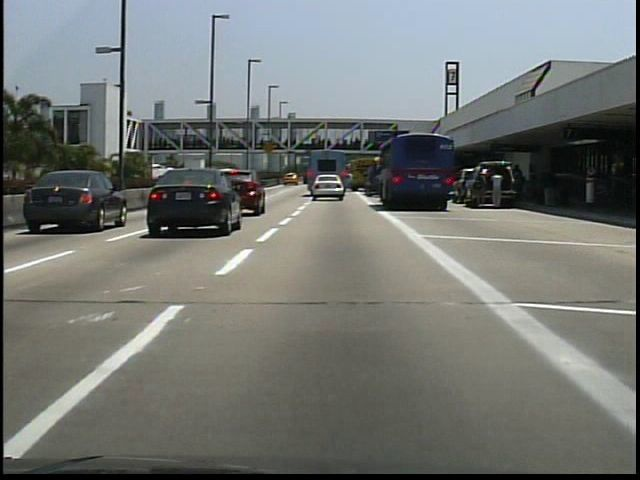person: (468, 166, 489, 214), (487, 165, 505, 211), (541, 166, 555, 208)
